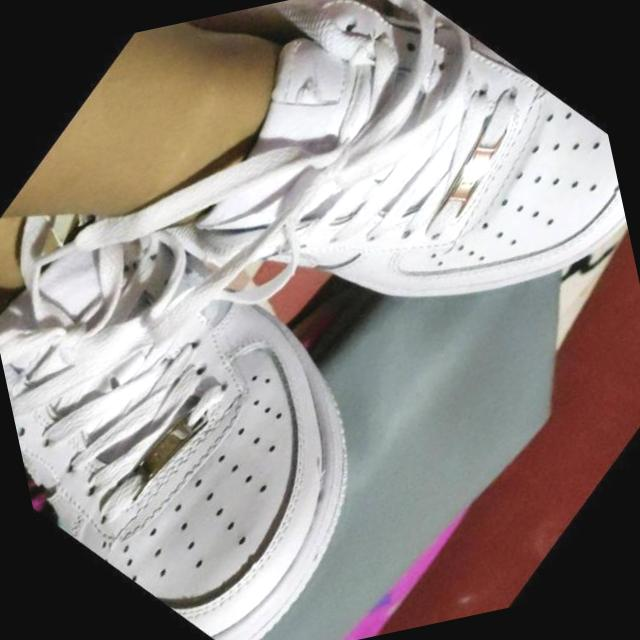nike_fake_airforce: (0, 74, 475, 640), (99, 0, 640, 485)
